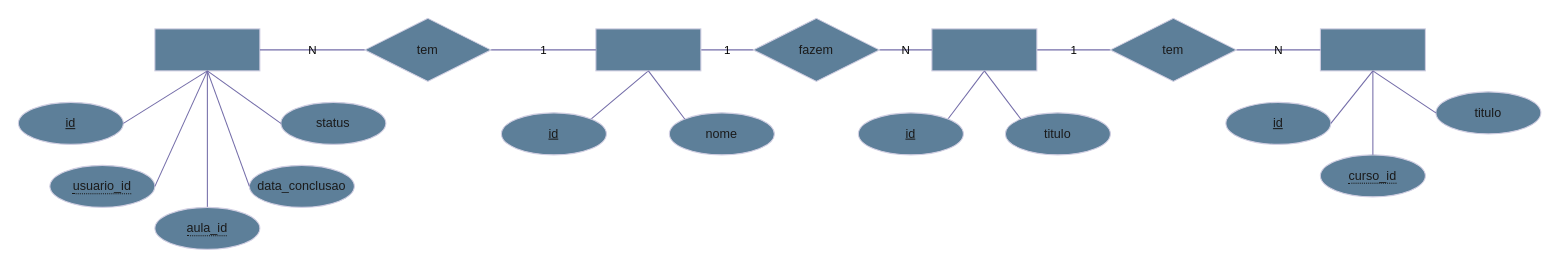
This 1559x268 diagram has some shape labels left out. Each missing label, with the centre of its shape:
"Aulas" belongs at [1372,49].
"Cursos" belongs at [984,49].
"Progresso" belongs at [207,49].
"Usuarios" belongs at [648,49].
